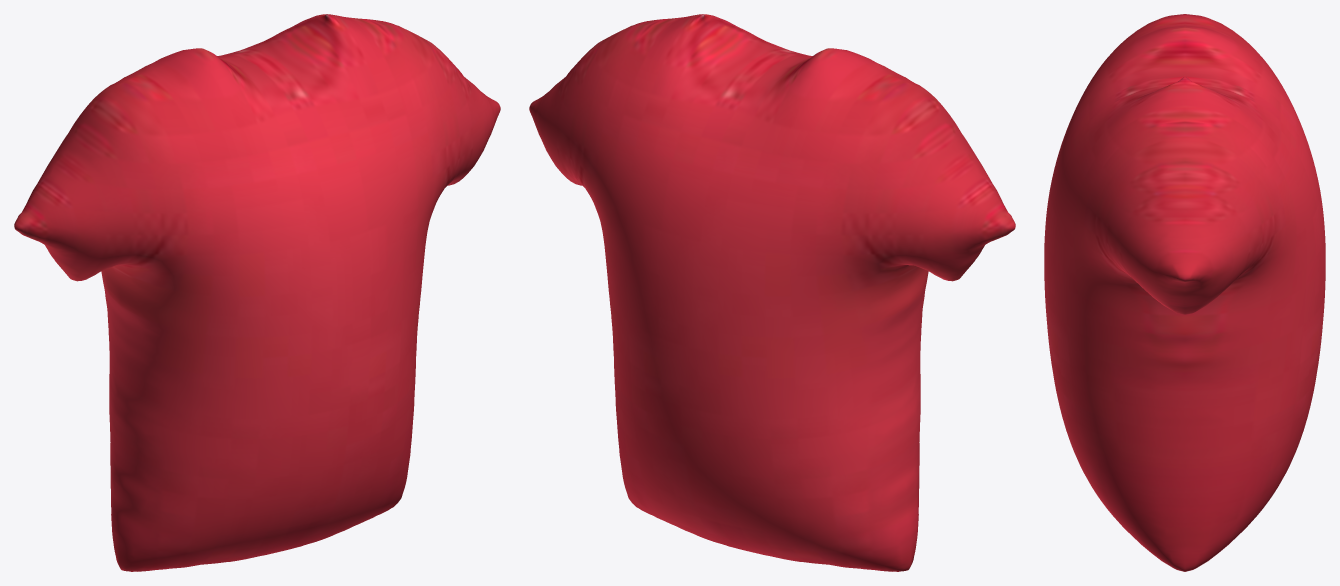
The model's file is cloth@26=cloth_front.glb.
3 views of the same model, side by side, from view 1: azimuth 30°, elevation 25°; view 2: azimuth 150°, elevation 25°; view 3: azimuth 270°, elevation 25° (orthographic). The views are drawn at different scales.
Bounding box in the file's own units: 6.84 × 6.9 × 3.71.
1 material, 1 textured.
